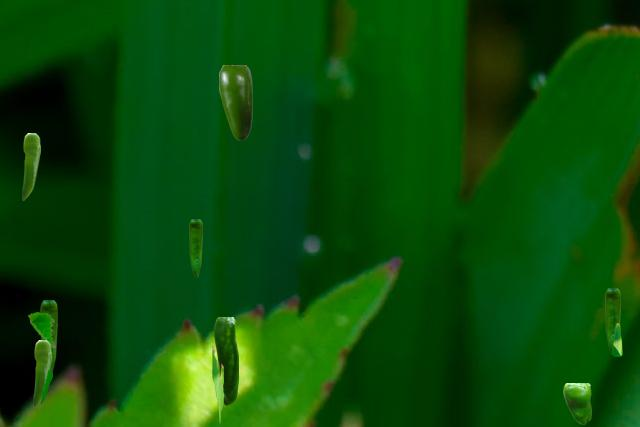green_chili: (219, 65, 251, 139), (214, 317, 237, 404), (40, 300, 56, 374), (22, 133, 39, 199), (33, 340, 50, 406), (563, 383, 590, 423), (605, 288, 619, 354), (189, 219, 201, 276)
